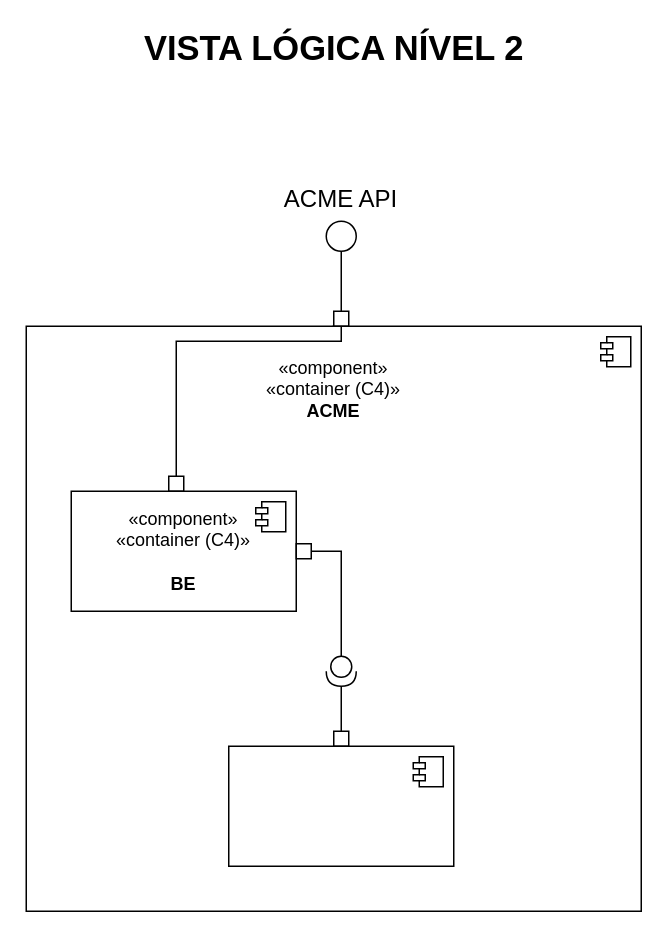
The diagram is 668 pixels wide and 938 high, and some of its shapes have lost their labels. Here are the shapes that lost their labels. From the top down, the centre of each, then its label:
(340,670): BD API
(340,805): «component» «container (C4)» BD
